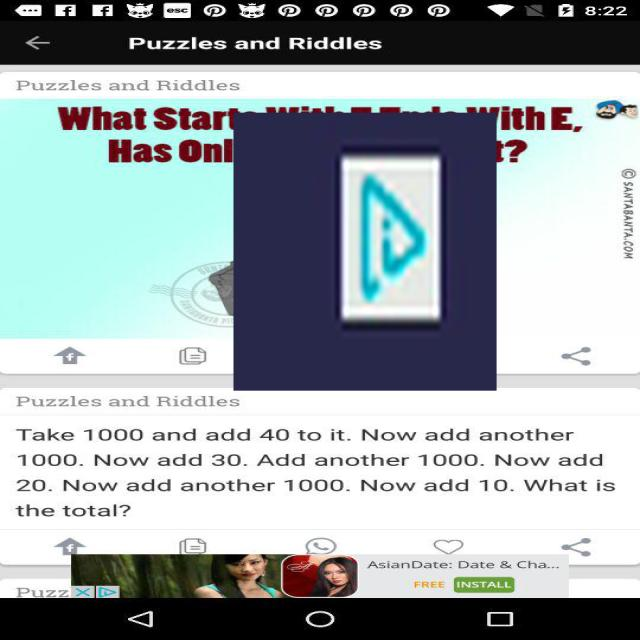sneaking: (234, 112, 496, 390)
